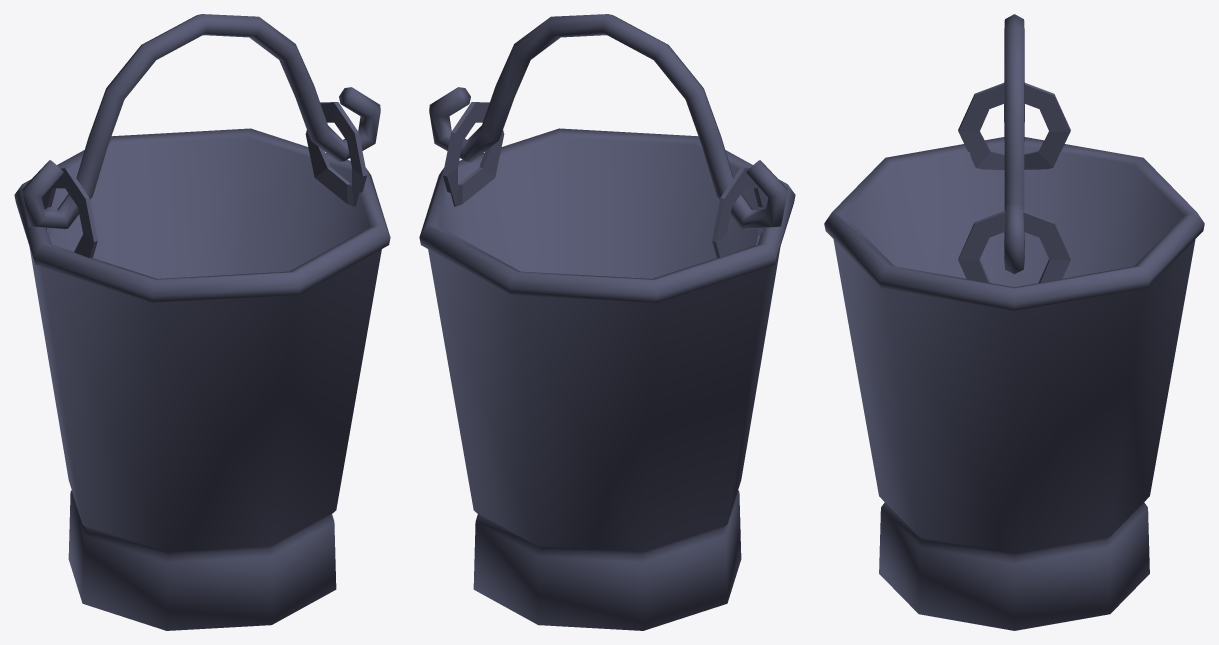
File: MetalBucket.fbx
3 renders of one model, left to right at view 1: azimuth 30°, elevation 25°; view 2: azimuth 150°, elevation 25°; view 3: azimuth 270°, elevation 25°, orthographic. The views are drawn at different scales.
Visible parts, largest first — view 1: MetalBucket; view 2: MetalBucket; view 3: MetalBucket.
Boxes of the visible parts, x1,y1,x2,y2 form: MetalBucket: (14, 14, 390, 630); MetalBucket: (419, 14, 795, 630); MetalBucket: (824, 14, 1204, 630).
Size of the model in its own units: 61.02 by 91.46 by 57.58.
